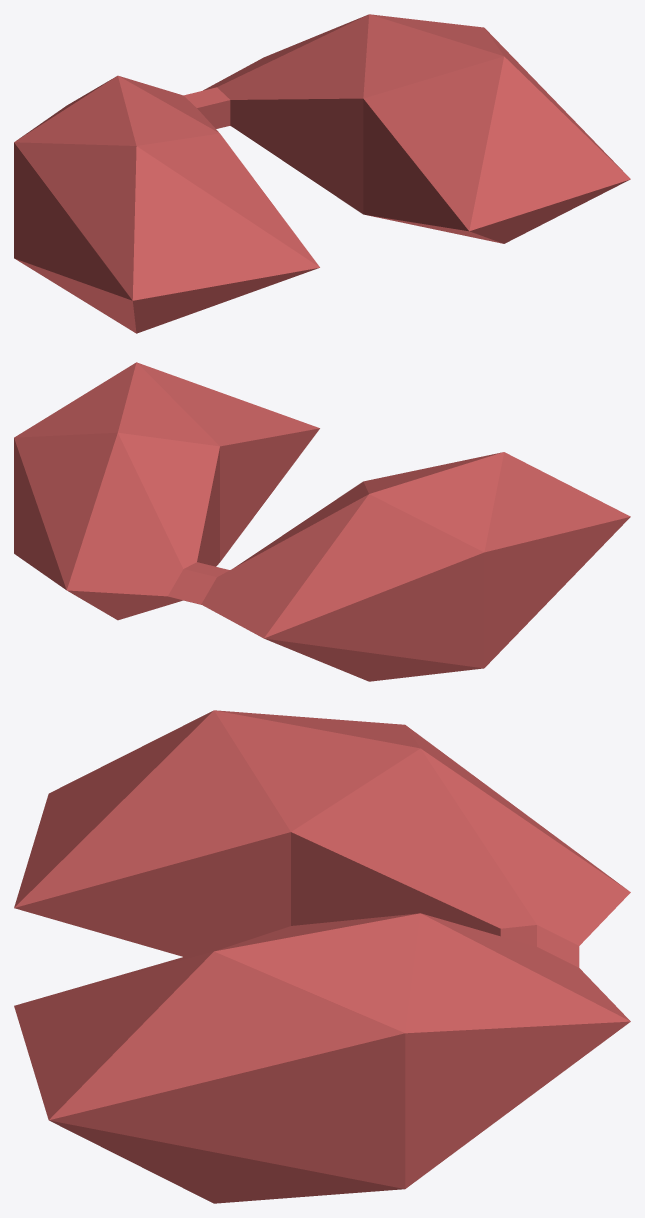
File: lung.fbx
3 views of the same model, one above another, from view 1: azimuth 30°, elevation 25°; view 2: azimuth 150°, elevation 25°; view 3: azimuth 270°, elevation 25° (orthographic). The views are drawn at different scales.
Parts seen in each view (by area): view 1: pPlatonic4; view 2: pPlatonic4; view 3: pPlatonic4.
Part boxes in pixels (<box>): pPlatonic4: <box>14,14,630,333</box>; pPlatonic4: <box>14,362,630,681</box>; pPlatonic4: <box>14,710,630,1203</box>.
Size of the model in its own units: 360 by 130 by 287.
